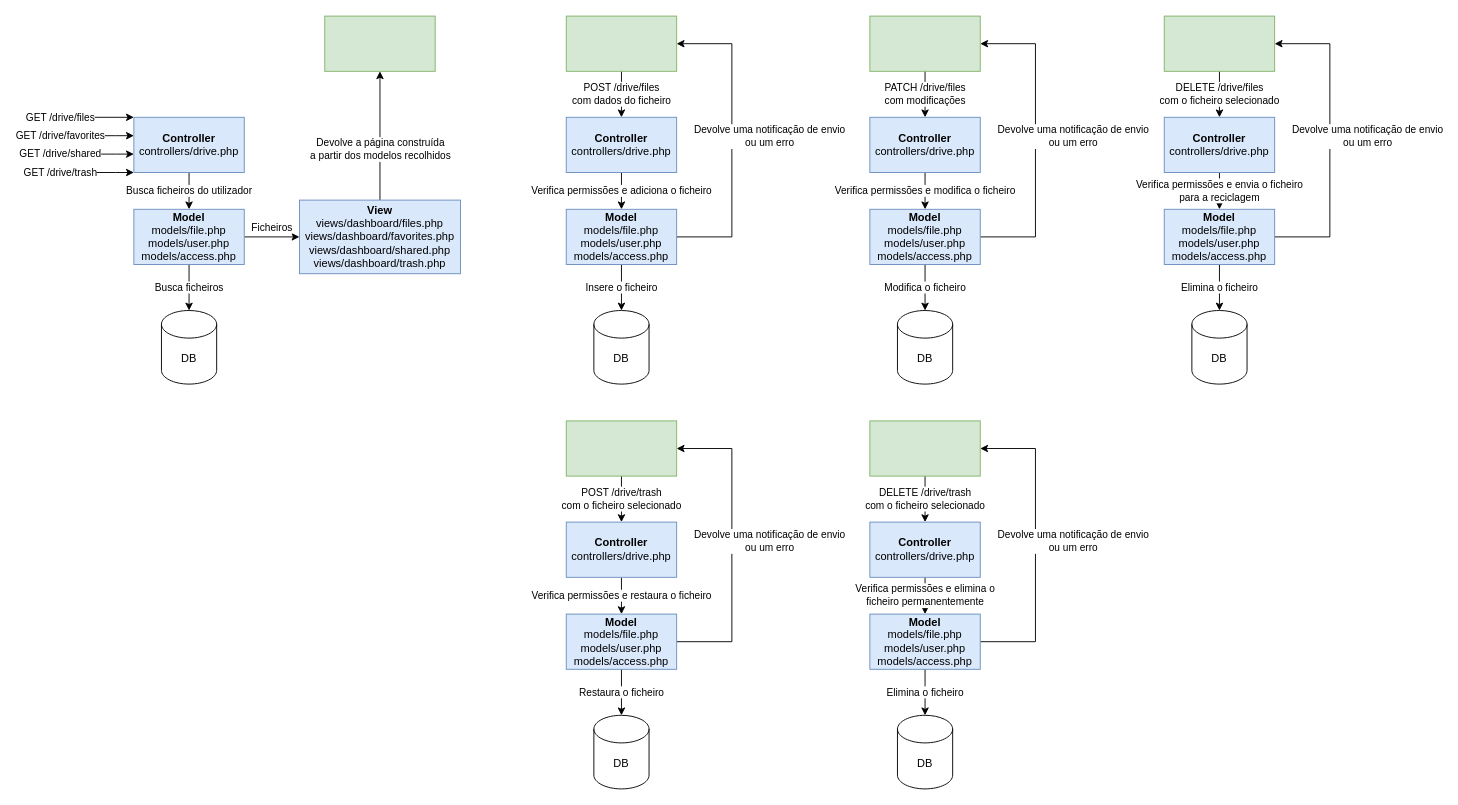
This 1458x805 diagram has some shape labels left out. The centre of each missing label's shape, as x and y in pixels:
"Arrastar ficheiro ou Upload pelo botão +" goes at pixel 621 43.
"Elimina o ficheiro da drive" goes at pixel 1219 43.
"Elimina o ficheiro da reciclagem" goes at pixel 924 448.
"Modifica o ficheiro (renomear, adicionar aos favoritos, etc.)" goes at pixel 924 43.
"Páginas de ficheiros" goes at pixel 379 43.
"Restaura um ficheiro da reciclagem" goes at pixel 621 448.
